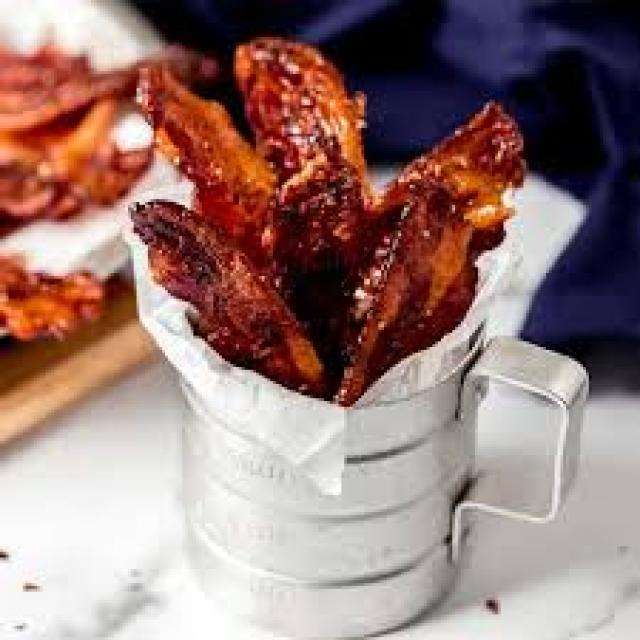Bacon: (334, 101, 525, 404), (134, 204, 324, 394), (142, 65, 278, 257), (236, 41, 362, 186), (236, 39, 285, 143)
